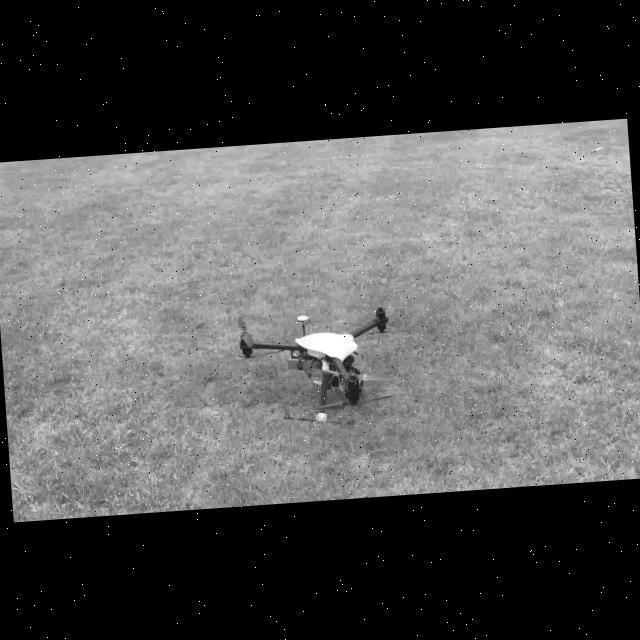Drons: (215, 301, 406, 427)
